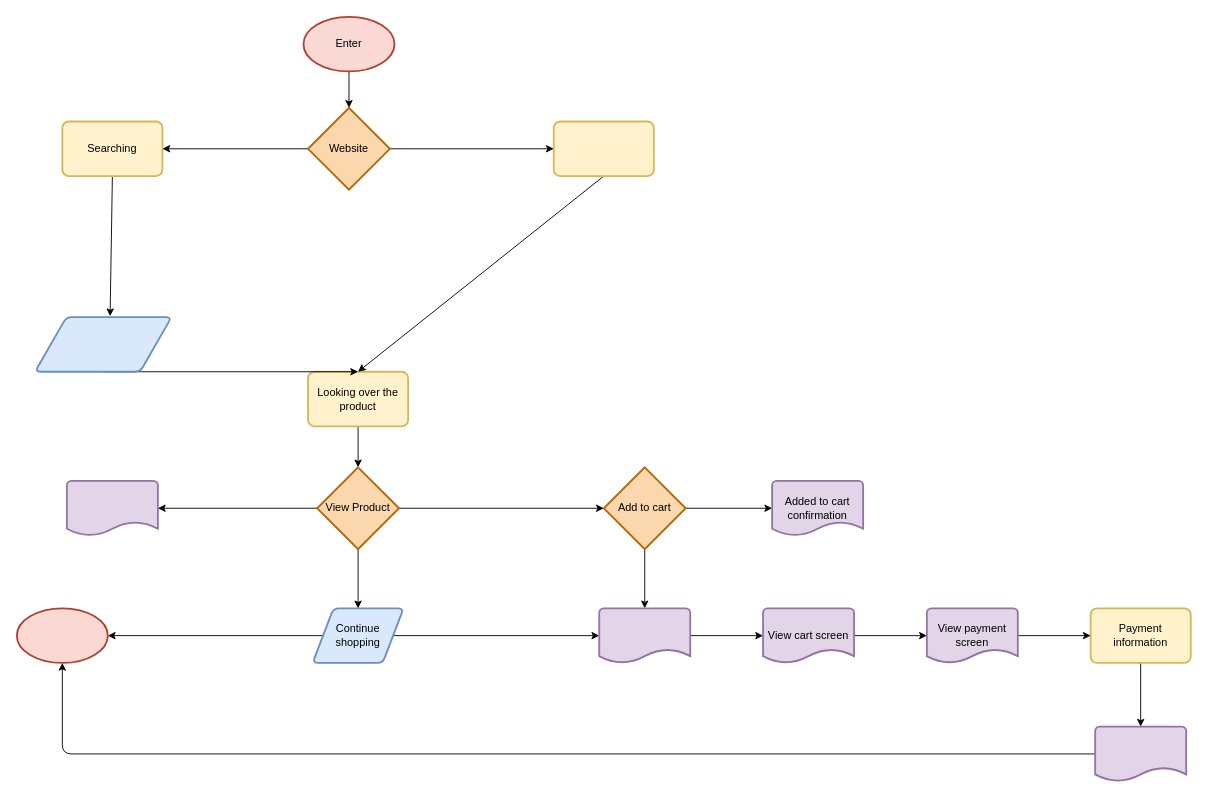
Image size: 1207x797. Some labels were removed from this diagram. Each missing label, with the centre of its shape:
"Check out page" goes at point 644,635.
"Customer data entered" goes at point 103,344.
"Exit website" goes at point 61,635.
"Exploring Homepage" goes at point 603,148.
"Order and email confirmation" goes at point 1140,753.
"Product preview" goes at point 112,508.
